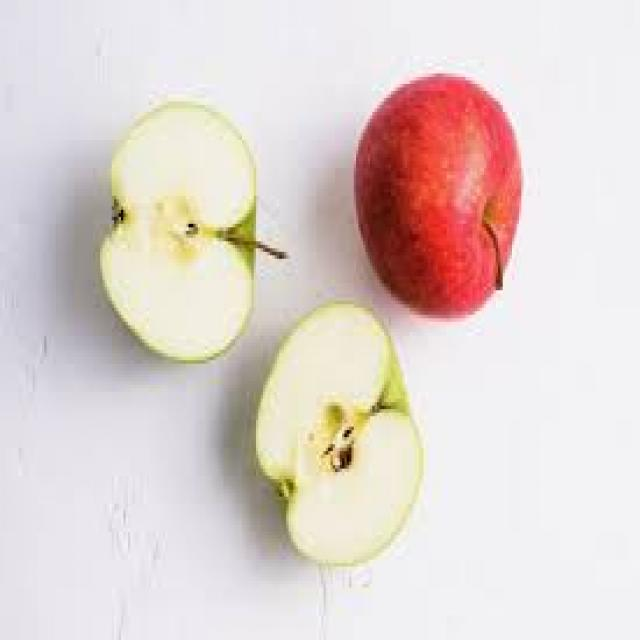Apple: (257, 303, 421, 569), (101, 102, 255, 366), (354, 74, 522, 310)
